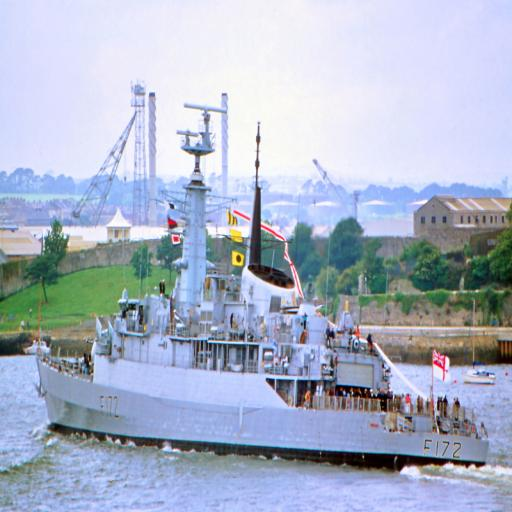Fragata: (35, 89, 495, 476)
